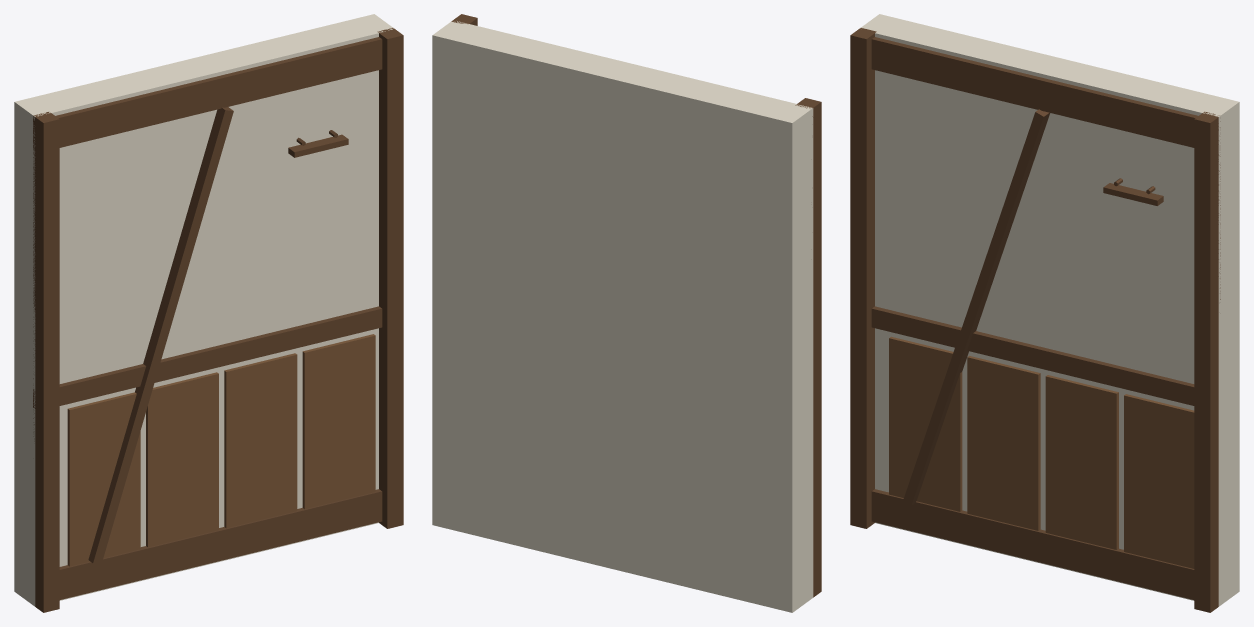
The model's file is SM_Wall_TavernFrame_02_Straight.glb.
The picture shows the model from 3 angles, left to right: view 1: azimuth 30°, elevation 25°; view 2: azimuth 150°, elevation 25°; view 3: azimuth 330°, elevation 25°; orthographic projection.
Parts seen in each view (by area): view 1: SM_Wall_TavernFrame_02_Straight_Panel, SM_Wall_TavernFrame_02_Straight_Stud0, SM_Wall_TavernFrame_02_Straight_Stud1, SM_Wall_TavernFrame_02_Straight_Wainscot3, SM_Wall_TavernFrame_02_Straight_Wainscot2, SM_Wall_TavernFrame_02_Straight_Wainscot1, SM_Wall_TavernFrame_02_Straight_Plate, SM_Wall_TavernFrame_02_Straight_Sill, SM_Wall_TavernFrame_02_Straight_Wainscot0, SM_Wall_TavernFrame_02_Straight_Brace, SM_Wall_TavernFrame_02_Straight_Rail, SM_Wall_TavernFrame_02_Straight_MugShelf; view 2: SM_Wall_TavernFrame_02_Straight_Panel, SM_Wall_TavernFrame_02_Straight_Stud0; view 3: SM_Wall_TavernFrame_02_Straight_Panel, SM_Wall_TavernFrame_02_Straight_Stud1, SM_Wall_TavernFrame_02_Straight_Stud0, SM_Wall_TavernFrame_02_Straight_Wainscot2, SM_Wall_TavernFrame_02_Straight_Wainscot1, SM_Wall_TavernFrame_02_Straight_Wainscot3, SM_Wall_TavernFrame_02_Straight_Plate, SM_Wall_TavernFrame_02_Straight_Sill, SM_Wall_TavernFrame_02_Straight_Wainscot0, SM_Wall_TavernFrame_02_Straight_Rail, SM_Wall_TavernFrame_02_Straight_Brace, SM_Wall_TavernFrame_02_Straight_MugShelf.
Part boxes in pixels (x1,y1,x2,y2): SM_Wall_TavernFrame_02_Straight_Panel: [14, 14, 393, 606]; SM_Wall_TavernFrame_02_Straight_Stud0: [33, 112, 59, 612]; SM_Wall_TavernFrame_02_Straight_Stud1: [377, 28, 403, 528]; SM_Wall_TavernFrame_02_Straight_Wainscot3: [302, 334, 375, 509]; SM_Wall_TavernFrame_02_Straight_Wainscot2: [224, 353, 297, 528]; SM_Wall_TavernFrame_02_Straight_Wainscot1: [146, 372, 218, 547]; SM_Wall_TavernFrame_02_Straight_Plate: [33, 37, 382, 152]; SM_Wall_TavernFrame_02_Straight_Sill: [59, 489, 382, 599]; SM_Wall_TavernFrame_02_Straight_Wainscot0: [67, 392, 140, 566]; SM_Wall_TavernFrame_02_Straight_Brace: [88, 107, 233, 564]; SM_Wall_TavernFrame_02_Straight_Rail: [33, 306, 382, 410]; SM_Wall_TavernFrame_02_Straight_MugShelf: [288, 134, 348, 157]; SM_Wall_TavernFrame_02_Straight_Panel: [432, 21, 813, 612]; SM_Wall_TavernFrame_02_Straight_Stud0: [795, 98, 821, 597]; SM_Wall_TavernFrame_02_Straight_Panel: [861, 14, 1239, 606]; SM_Wall_TavernFrame_02_Straight_Stud1: [1194, 111, 1220, 612]; SM_Wall_TavernFrame_02_Straight_Stud0: [850, 28, 876, 528]; SM_Wall_TavernFrame_02_Straight_Wainscot2: [1045, 375, 1118, 549]; SM_Wall_TavernFrame_02_Straight_Wainscot1: [967, 356, 1040, 530]; SM_Wall_TavernFrame_02_Straight_Wainscot3: [1124, 394, 1194, 568]; SM_Wall_TavernFrame_02_Straight_Plate: [871, 37, 1218, 151]; SM_Wall_TavernFrame_02_Straight_Sill: [871, 489, 1194, 599]; SM_Wall_TavernFrame_02_Straight_Wainscot0: [889, 336, 962, 511]; SM_Wall_TavernFrame_02_Straight_Rail: [871, 306, 1194, 405]; SM_Wall_TavernFrame_02_Straight_Brace: [903, 109, 1050, 505]; SM_Wall_TavernFrame_02_Straight_MugShelf: [1103, 183, 1163, 205].
Size of the model in its own units: 2 by 2.6 by 0.28.
